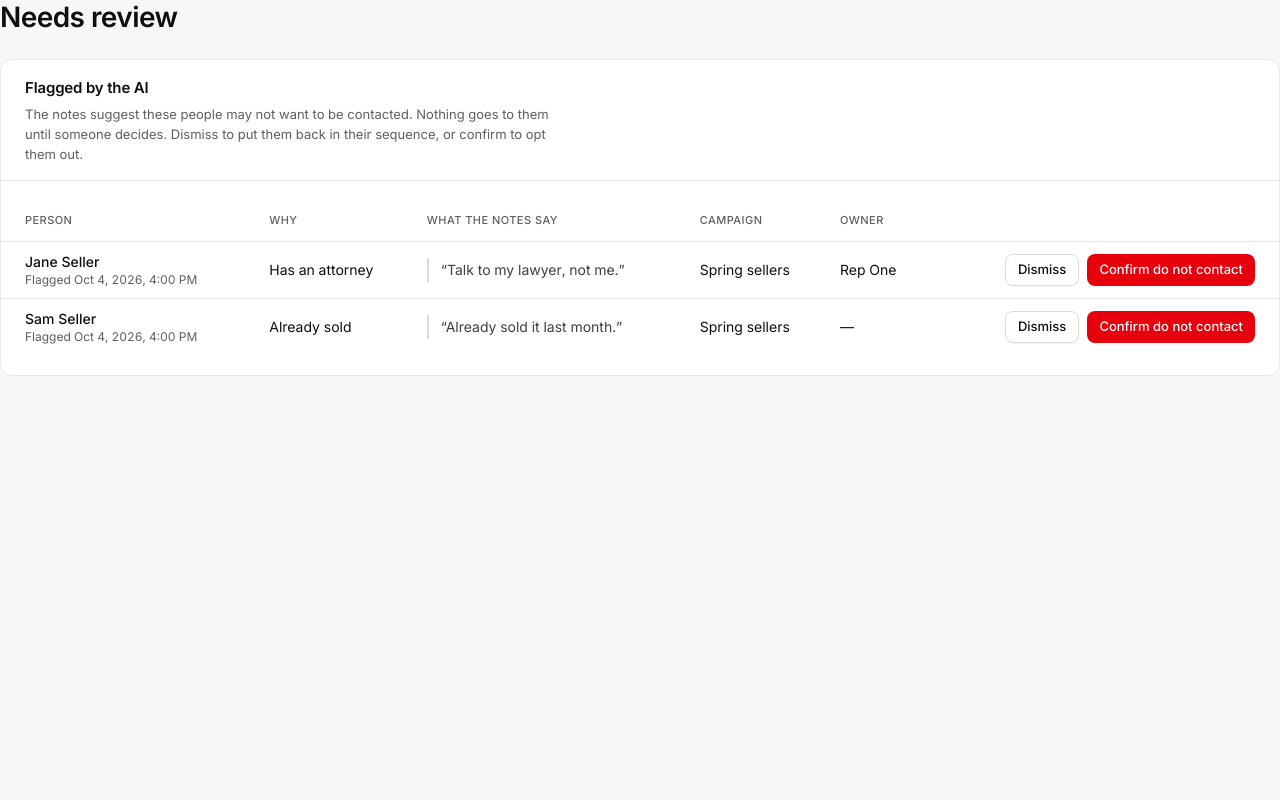
Test: ReviewPage › confirms do-not-contact only after a dialog that explains it opts the person out of everything
This screenshot has width=1280, height=800.
What coordinates should you click on to do the following:
click the button with aria-label "Confirm do not contact for Jane Seller"
I would click on:
 (1171, 270)
Its box is [1087,254,1255,286].
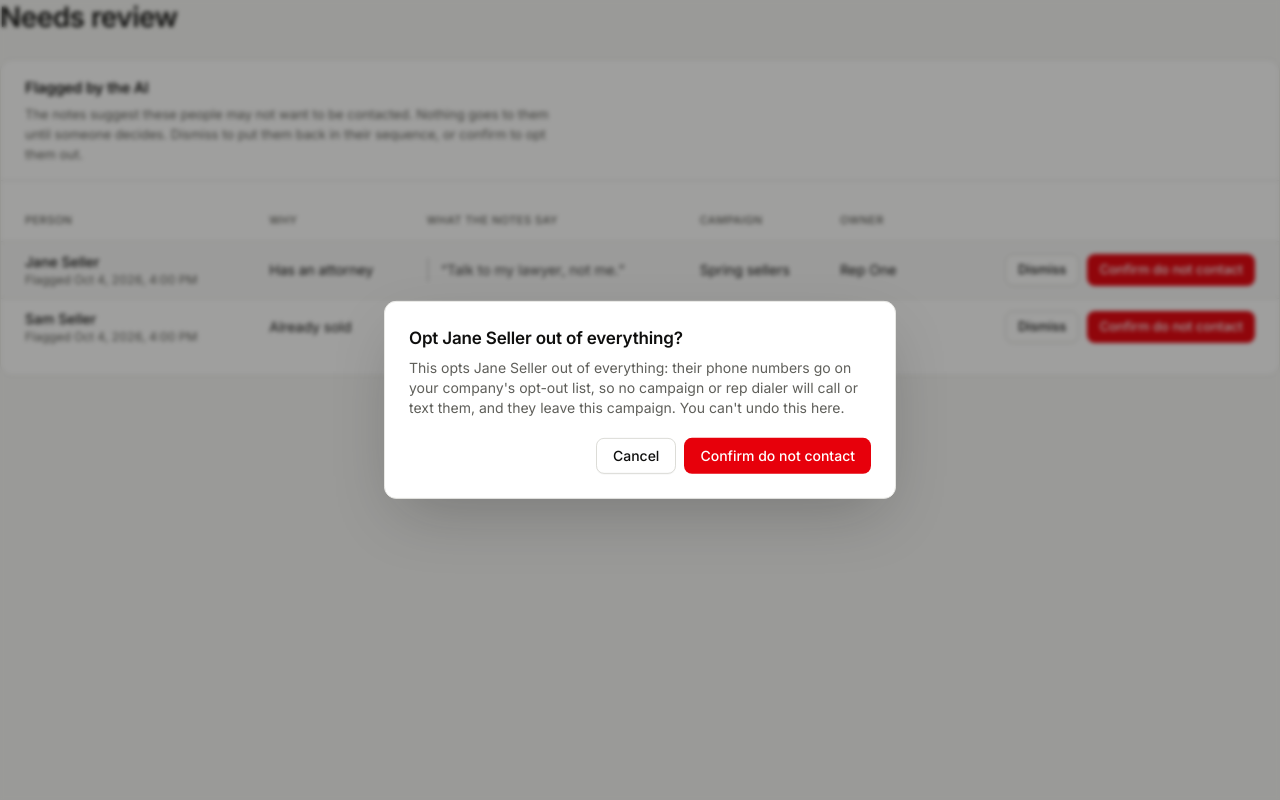
Result: the dialog shows "This opts Jane Seller out of everything" at [409,359,858,416]
What coordinates should you click on to do the following:
click the button "Confirm do not contact"
I would click on:
 (778, 456)
Its box is [684,438,871,474].
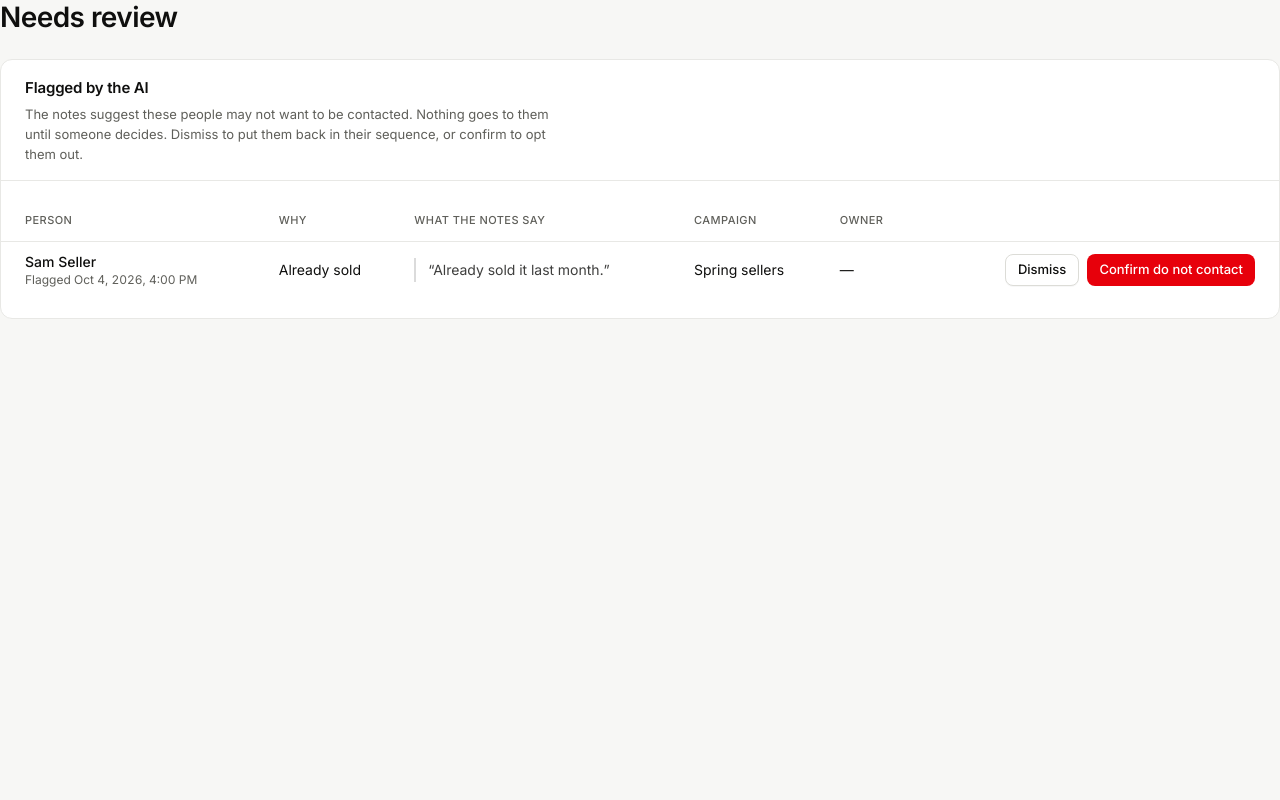
Result: the text "Jane Seller" is gone
